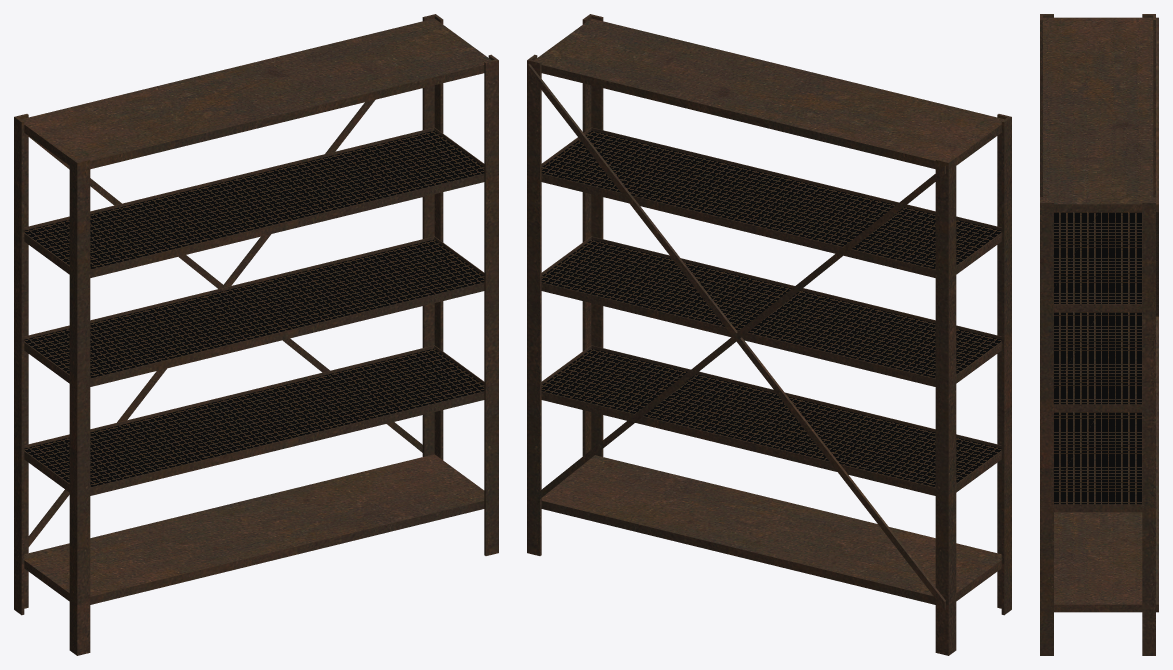
The model's file is shelf_mx_4.obj.
The picture shows the model from 3 angles, left to right: view 1: azimuth 30°, elevation 25°; view 2: azimuth 150°, elevation 25°; view 3: azimuth 270°, elevation 25°; orthographic projection. The views are drawn at different scales.
Parts seen in each view (by area): view 1: shelf_mx_4; view 2: shelf_mx_4; view 3: shelf_mx_4.
Boxes of the visible parts, x1,y1,x2,y2 form: shelf_mx_4: (14,14,498,655); shelf_mx_4: (527,14,1011,655); shelf_mx_4: (1040,14,1158,655).
Size of the model in its own units: 1.62 by 1.81 by 0.43.
